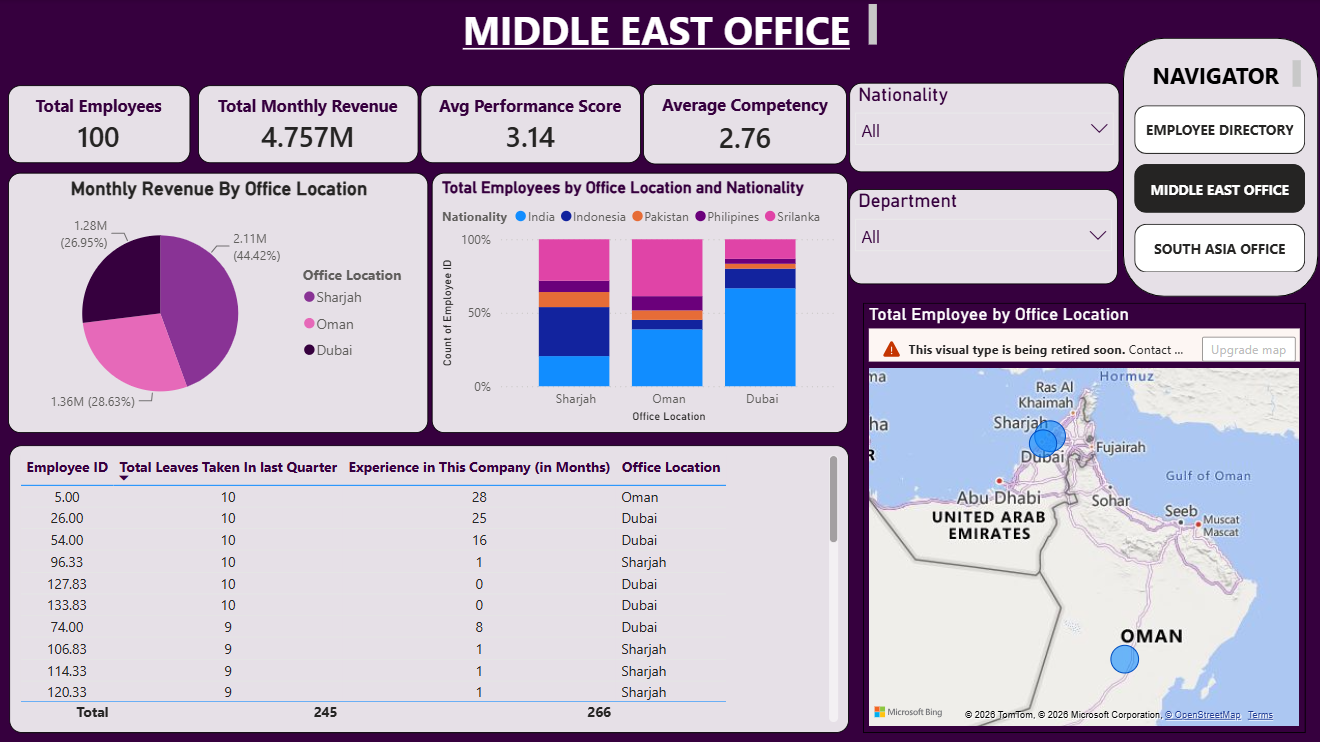

The dashboard page shown, as its layout file describes it:
{"tool":"powerbi","page":{"name":"MIDDLE EAST OFFICE","canvas":[1280,720],"ordinal":1},"visuals":[{"type":"shape","box":[1085.7,37.1,188.6,250],"z":0},{"type":"textbox","box":[1097.1,54.3,165.7,37.1],"z":1000},{"type":"pageNavigator","box":[1097.1,102.9,165.7,161.4],"z":2000},{"type":"textbox","box":[426.2,0,427.5,53.8],"z":3000},{"type":"slicer","title":"TOTAL EMPLOYEES","fields":{"Values":["Middle East Office.Nationality"]},"box":[822.1,81.3,260.7,86.5],"z":4000},{"type":"pieChart","title":"Monthly Revenue By Office Location","fields":{"Category":["Middle East Office.Office Location","Middle East Office.Department"],"Y":["Sum(Middle East Office.Monthly Revenue Generated )"]},"box":[10,167.1,405.7,251.4],"z":5000},{"type":"cardVisual","title":"TOTAL EMPLOYEES","fields":{"Data":["Count(Middle East Office.Employee ID)"]},"box":[10,83.6,175.7,75],"z":6000},{"type":"slicer","title":"TOTAL EMPLOYEES","fields":{"Values":["Middle East Office.Department"]},"box":[822.1,183.3,259.4,91.6],"z":7000},{"type":"cardVisual","title":"TOTAL EMPLOYEES","fields":{"Data":["Avg(Middle East Office.Performance score)"]},"box":[407.8,83.3,212.8,75.6],"z":8000},{"type":"cardVisual","title":"TOTAL EMPLOYEES","fields":{"Data":["Avg(Middle East Office.Competency (Max=5))"]},"box":[622.9,82.3,197.1,77.4],"z":9000},{"type":"cardVisual","title":"TOTAL EMPLOYEES","fields":{"Data":["Sum(Middle East Office.Monthly Revenue Generated )"]},"box":[192.5,83.6,212.9,75],"z":10000},{"type":"tableEx","fields":{"Values":["Middle East Office.Employee ID","Sum(Middle East Office.Number of Leaves Taken last QuarterMax allowed in a quarter = 6)","Sum(Middle East Office.Number of Months of Experience in the Company)","Middle East Office.Office Location"]},"box":[10.3,431.1,810.5,277.5],"z":11000},{"type":"hundredPercentStackedColumnChart","title":"Total Employees by Office Location and Nationality","fields":{"Category":["Middle East Office.Office Location"],"Series":["Middle East Office.Nationality"],"Y":["CountNonNull(Middle East Office.Employee ID)"]},"box":[418.8,167.5,401.2,251.2],"z":12000},{"type":"map","title":"Total Employee by Office Location","fields":{"Category":["Middle East Office.Office Location","Middle East Office.Department"],"Size":["CountNonNull(Middle East Office.Employee ID)"]},"box":[835,293,427.2,415.6],"z":13000}]}

Visuals, with their boxes in screenshot pixels (x1, y1, x2, y2), scaled from the page's 1280x720 canvas onto the 1320x742 screenshot:
shape: box=[1120, 38, 1314, 296]
textbox: box=[1131, 56, 1302, 94]
pageNavigator: box=[1131, 106, 1302, 272]
textbox: box=[440, 0, 880, 55]
"TOTAL EMPLOYEES" slicer: box=[848, 84, 1117, 173]
"Monthly Revenue By Office Location" pieChart: box=[10, 172, 429, 431]
"TOTAL EMPLOYEES" cardVisual: box=[10, 86, 192, 163]
"TOTAL EMPLOYEES" slicer: box=[848, 189, 1115, 283]
"TOTAL EMPLOYEES" cardVisual: box=[421, 86, 640, 164]
"TOTAL EMPLOYEES" cardVisual: box=[642, 85, 846, 165]
"TOTAL EMPLOYEES" cardVisual: box=[199, 86, 418, 163]
tableEx - Middle East Office.Employee ID x Sum(Middle East Office.Number of Leaves Taken last QuarterMax allowed in a quarter = 6): box=[11, 444, 846, 730]
"Total Employees by Office Location and Nationality" hundredPercentStackedColumnChart: box=[432, 173, 846, 431]
"Total Employee by Office Location" map: box=[861, 302, 1302, 730]
